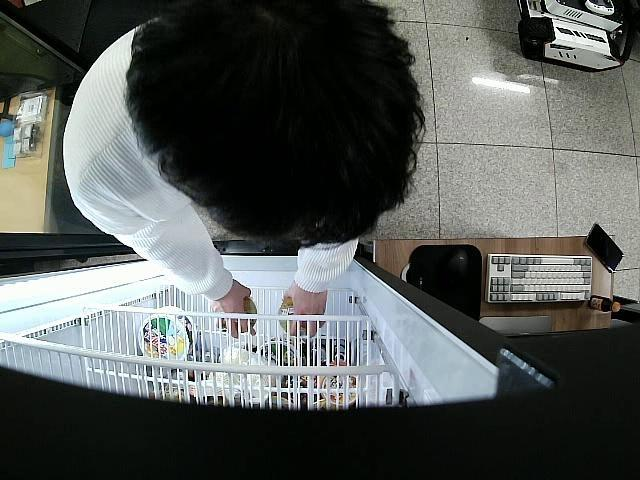04_chapagetti_S: (218, 296, 260, 334), (278, 299, 313, 336)
